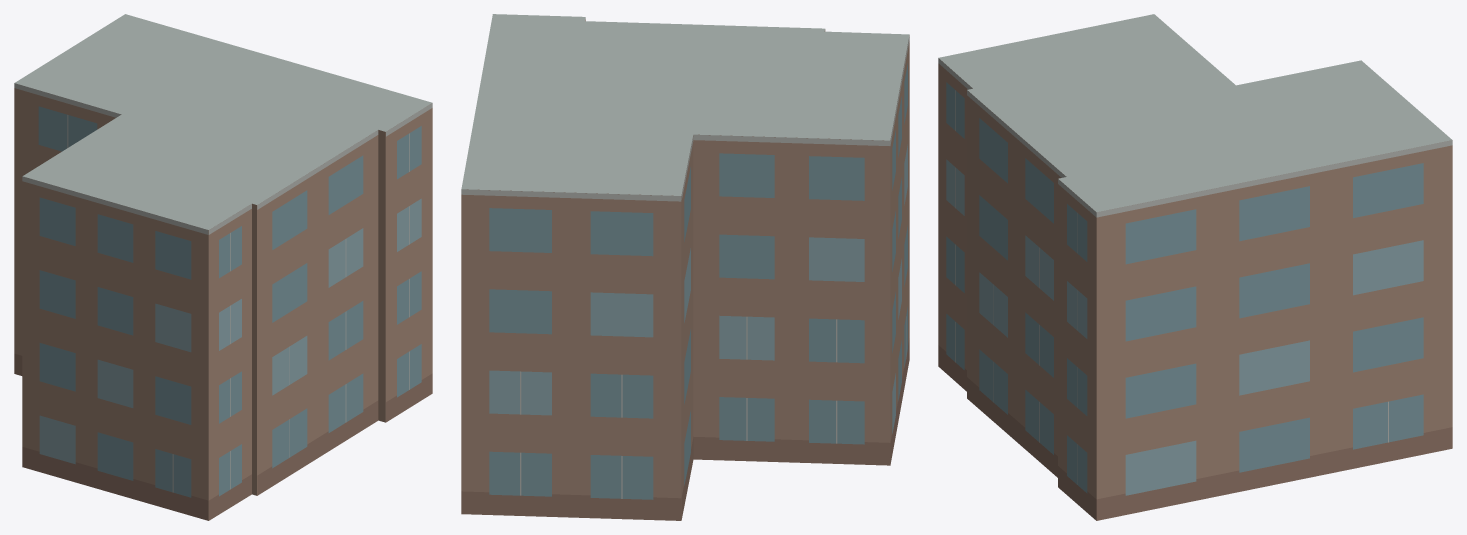
The model's file is survey-upis-32681114.glb.
The picture shows the model from 3 angles, left to right: view 1: azimuth 30°, elevation 25°; view 2: azimuth 150°, elevation 25°; view 3: azimuth 270°, elevation 25°; orthographic projection. The views are drawn at different scales.
Parts seen in each view (by area): view 1: survey-upis-32681114.tmp; view 2: survey-upis-32681114.tmp; view 3: survey-upis-32681114.tmp.
Boxes of the visible parts, x1=… form: survey-upis-32681114.tmp: x1=14, y1=14, x2=432, y2=520; survey-upis-32681114.tmp: x1=461, y1=14, x2=909, y2=520; survey-upis-32681114.tmp: x1=938, y1=14, x2=1452, y2=520.
Bounding box in the file's own units: 19.74 × 14.31 × 21.63.
